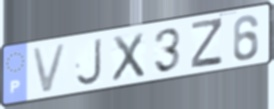3: (153, 27, 183, 74)
6: (231, 12, 260, 62)
J: (74, 36, 104, 88)
V: (29, 40, 70, 96)
X: (110, 30, 147, 84)
Z: (189, 15, 225, 70)
